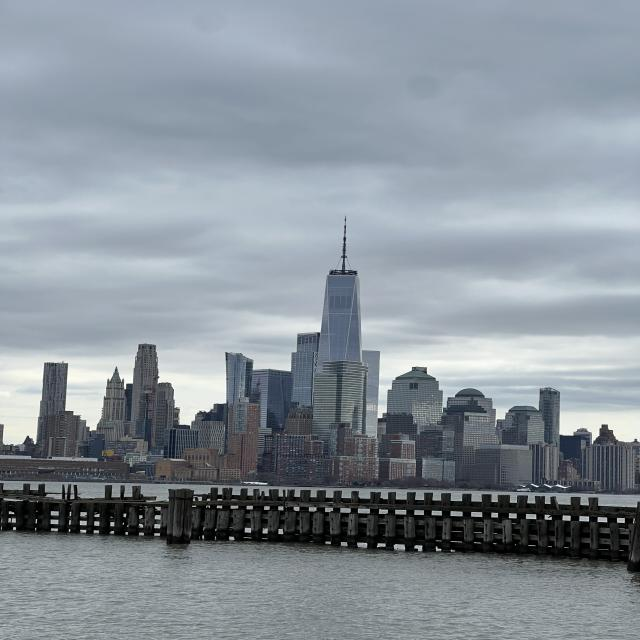WTC: (318, 215, 364, 361)
